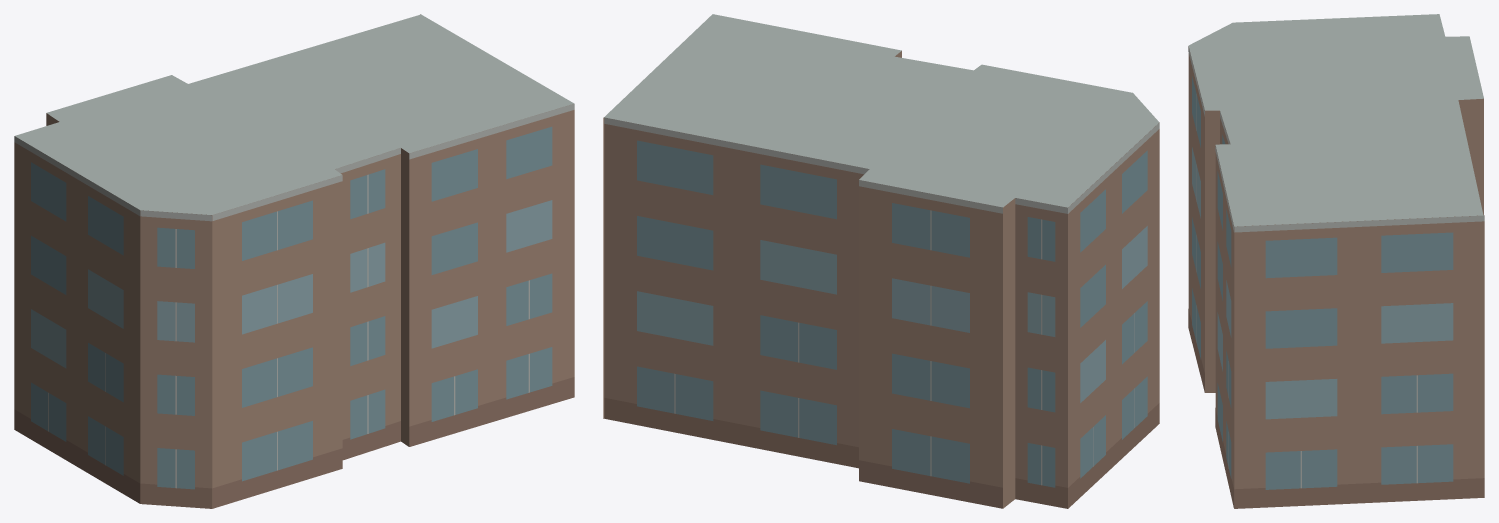
Rendered from survey-upis-32978348.glb.
The picture shows the model from 3 angles, left to right: view 1: azimuth 30°, elevation 25°; view 2: azimuth 150°, elevation 25°; view 3: azimuth 270°, elevation 25°; orthographic projection. The views are drawn at different scales.
Parts seen in each view (by area): view 1: survey-upis-32978348.tmp; view 2: survey-upis-32978348.tmp; view 3: survey-upis-32978348.tmp.
Boxes of the visible parts, <box> form: survey-upis-32978348.tmp: <box>14,14,574,508</box>; survey-upis-32978348.tmp: <box>603,14,1159,508</box>; survey-upis-32978348.tmp: <box>1188,14,1484,508</box>.
Size of the model in its own units: 18.74 by 11.6 by 11.03.
